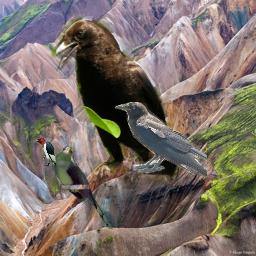Crow: (51, 16, 179, 189), (115, 102, 207, 176)
Cuckoo: (52, 146, 117, 231)
Woodpecker: (33, 137, 56, 166)
